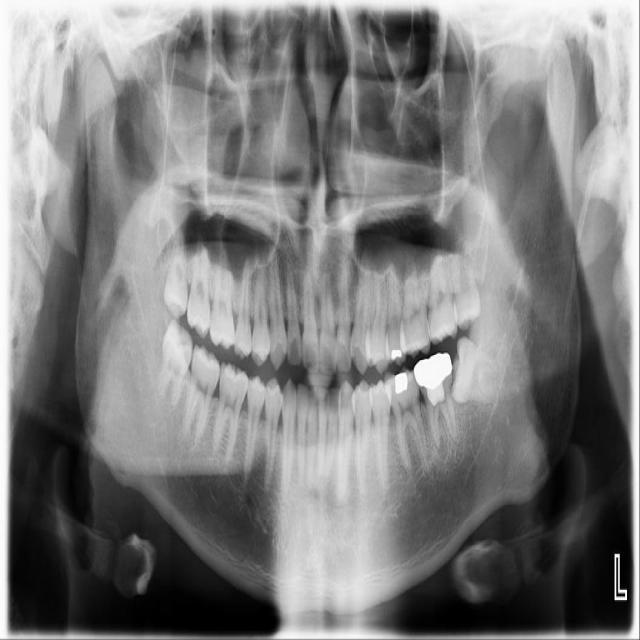3M ESPE Implant: (160, 222, 189, 320), (162, 227, 189, 319)
52: (377, 360, 431, 418), (410, 349, 460, 403), (380, 364, 428, 419), (411, 354, 459, 409), (384, 327, 407, 369), (385, 326, 407, 368)
73: (604, 558, 612, 572)
BioHorizons Implant: (424, 216, 458, 344), (428, 237, 457, 345)
BioLife Implant: (446, 236, 483, 332), (450, 231, 481, 331)
Biomet 3i Implant: (451, 335, 501, 406), (450, 335, 498, 404)
Blue Sky Bio Implant: (409, 350, 478, 459), (411, 352, 459, 450)
Caries: (187, 237, 209, 339)
Implant: (181, 344, 223, 448), (181, 345, 223, 442)
Keystone Dental Implant: (155, 317, 197, 409), (155, 319, 196, 406)
